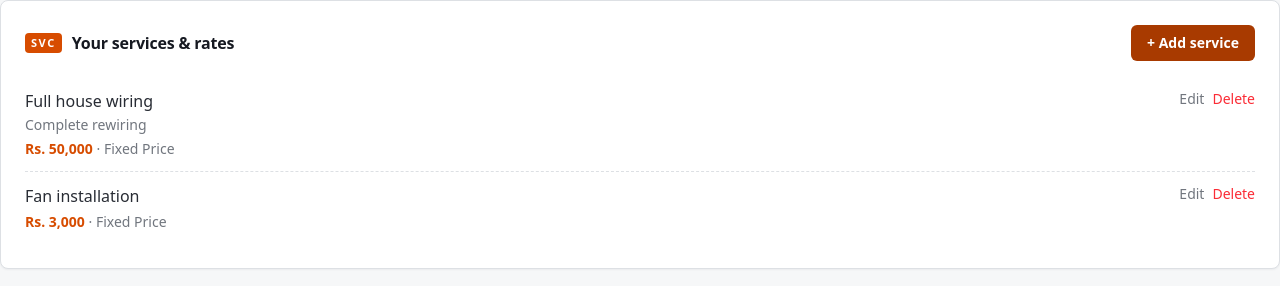
Test: ServicesManager › asks for confirmation and cancel makes no request
Click the button "Delete" in the row of "Full house wiring".
click(1234, 99)  # box [1212, 89, 1255, 109]
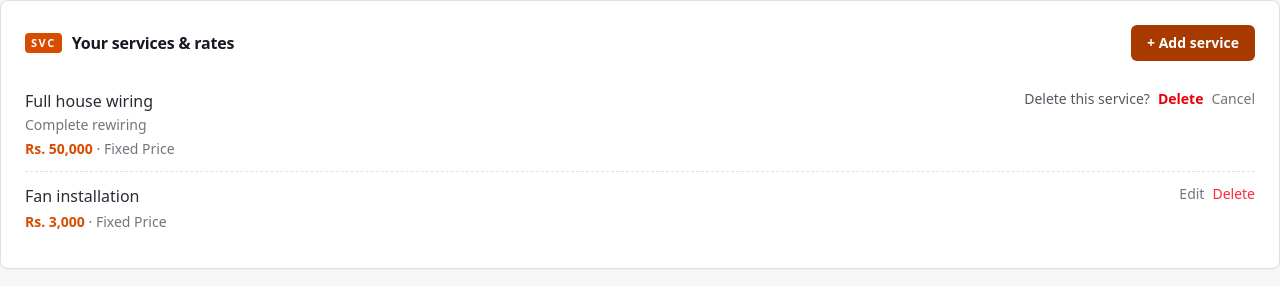
Click the button "Cancel".
click(1233, 99)  # box [1211, 89, 1255, 109]
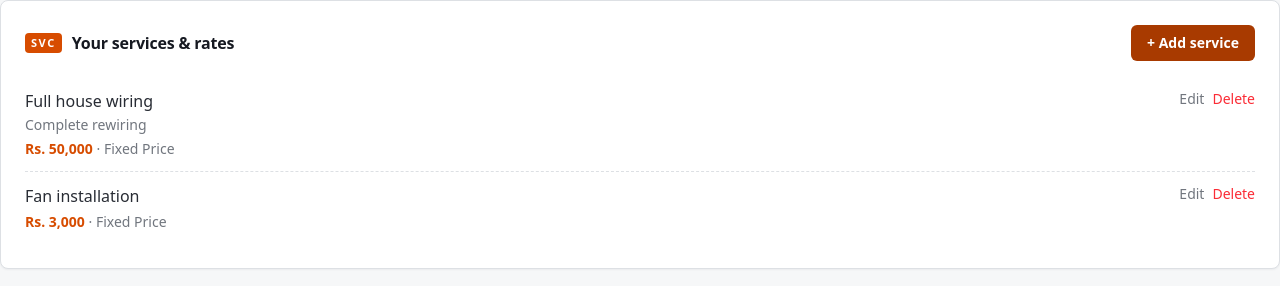
Check: the text "Delete this service?" is gone
